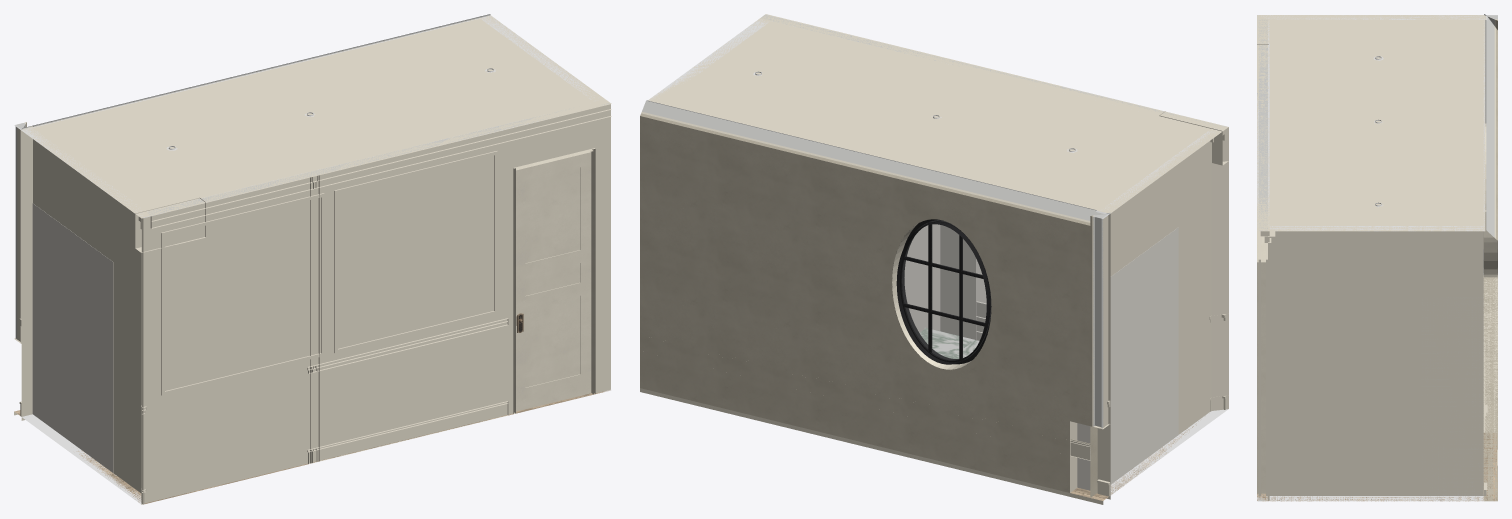
File: primary-loli-closet-b47351b57cbb.glb
3 views of the same model, side by side, from view 1: azimuth 30°, elevation 25°; view 2: azimuth 150°, elevation 25°; view 3: azimuth 270°, elevation 25° (orthographic). The views are drawn at different scales.
Parts seen in each view (by area): view 1: primary-loli-closet-21ac2ed1b4475155, primary-loli-closet-9d91b47435c6fb33, primary-loli-closet-6d601da8073fdc0e, primary-loli-closet-77b772996f7f67b8, primary-loli-closet-69af8f587252f9fa, primary-loli-closet-e7983be95ab098c1, primary-loli-closet-e48b5483df8cacdb, primary-loli-closet-40ba494a131a1b09, primary-loli-closet-c8a93ab7b69c3b53, primary-loli-closet-9e6cdde78fc443e1, primary-loli-closet-08e5178be0cf1e43, primary-loli-closet-3a163573517a0810 (+8 smaller); view 2: primary-loli-closet-3763e2fb8578d282, primary-loli-closet-9d91b47435c6fb33, primary-loli-closet-3a806c711886e947, primary-loli-closet-69af8f587252f9fa, primary-loli-closet-77b772996f7f67b8, primary-loli-closet-bc6b014e2fd7351d, primary-loli-closet-91eb0f90e9e94d87, primary-loli-closet-28fa16303b99ff8f, primary-loli-closet-b503483da03aa295, primary-loli-closet-2575515a05775d9e, primary-loli-closet-254dccfc69fd7b68, primary-loli-closet-3a163573517a0810 (+10 smaller); view 3: primary-loli-closet-95b94d4b81cfb474, primary-loli-closet-9d91b47435c6fb33, primary-loli-closet-3a806c711886e947, primary-loli-closet-91eb0f90e9e94d87, primary-loli-closet-21ac2ed1b4475155, primary-loli-closet-9e6cdde78fc443e1, primary-loli-closet-3a163573517a0810, primary-loli-closet-2575515a05775d9e, primary-loli-closet-4717698be62d0b44, primary-loli-closet-947ece252fc5b1be, primary-loli-closet-942c52dd436cf41a, primary-loli-closet-3763e2fb8578d282 (+6 smaller).
Part boxes in pixels (box(x1,y1,x2,y2)): primary-loli-closet-21ac2ed1b4475155: box(142, 103, 611, 504); primary-loli-closet-9d91b47435c6fb33: box(21, 15, 610, 218); primary-loli-closet-6d601da8073fdc0e: box(516, 152, 591, 411); primary-loli-closet-77b772996f7f67b8: box(32, 203, 113, 472); primary-loli-closet-69af8f587252f9fa: box(22, 128, 142, 504); primary-loli-closet-e7983be95ab098c1: box(20, 15, 490, 343); primary-loli-closet-e48b5483df8cacdb: box(310, 175, 319, 462); primary-loli-closet-40ba494a131a1b09: box(161, 193, 324, 395); primary-loli-closet-c8a93ab7b69c3b53: box(334, 151, 497, 353); primary-loli-closet-9e6cdde78fc443e1: box(513, 148, 595, 413); primary-loli-closet-08e5178be0cf1e43: box(150, 103, 611, 228); primary-loli-closet-3a163573517a0810: box(141, 98, 603, 211); primary-loli-closet-3763e2fb8578d282: box(640, 113, 1092, 426); primary-loli-closet-9d91b47435c6fb33: box(647, 15, 1228, 214); primary-loli-closet-3a806c711886e947: box(640, 316, 1077, 492); primary-loli-closet-69af8f587252f9fa: box(1099, 127, 1228, 495); primary-loli-closet-77b772996f7f67b8: box(1077, 227, 1178, 490); primary-loli-closet-bc6b014e2fd7351d: box(902, 220, 990, 360); primary-loli-closet-91eb0f90e9e94d87: box(642, 100, 1107, 220); primary-loli-closet-28fa16303b99ff8f: box(924, 224, 986, 340); primary-loli-closet-b503483da03aa295: box(892, 219, 991, 364); primary-loli-closet-2575515a05775d9e: box(640, 388, 1198, 504); primary-loli-closet-254dccfc69fd7b68: box(1093, 215, 1103, 428); primary-loli-closet-3a163573517a0810: box(757, 18, 1213, 142); primary-loli-closet-95b94d4b81cfb474: box(1269, 226, 1483, 501); primary-loli-closet-9d91b47435c6fb33: box(1257, 14, 1487, 231); primary-loli-closet-3a806c711886e947: box(1483, 275, 1497, 501); primary-loli-closet-91eb0f90e9e94d87: box(1485, 15, 1494, 432); primary-loli-closet-21ac2ed1b4475155: box(1257, 15, 1269, 501); primary-loli-closet-9e6cdde78fc443e1: box(1257, 236, 1265, 493); primary-loli-closet-3a163573517a0810: box(1268, 19, 1275, 242); primary-loli-closet-2575515a05775d9e: box(1257, 433, 1497, 501); primary-loli-closet-4717698be62d0b44: box(1421, 297, 1483, 495); primary-loli-closet-947ece252fc5b1be: box(1484, 123, 1497, 277); primary-loli-closet-942c52dd436cf41a: box(1258, 243, 1260, 495); primary-loli-closet-3763e2fb8578d282: box(1496, 20, 1497, 432).
Bounding box in the file's own units: 4.98 × 2.95 × 2.34.
22 materials, 5 textured.
